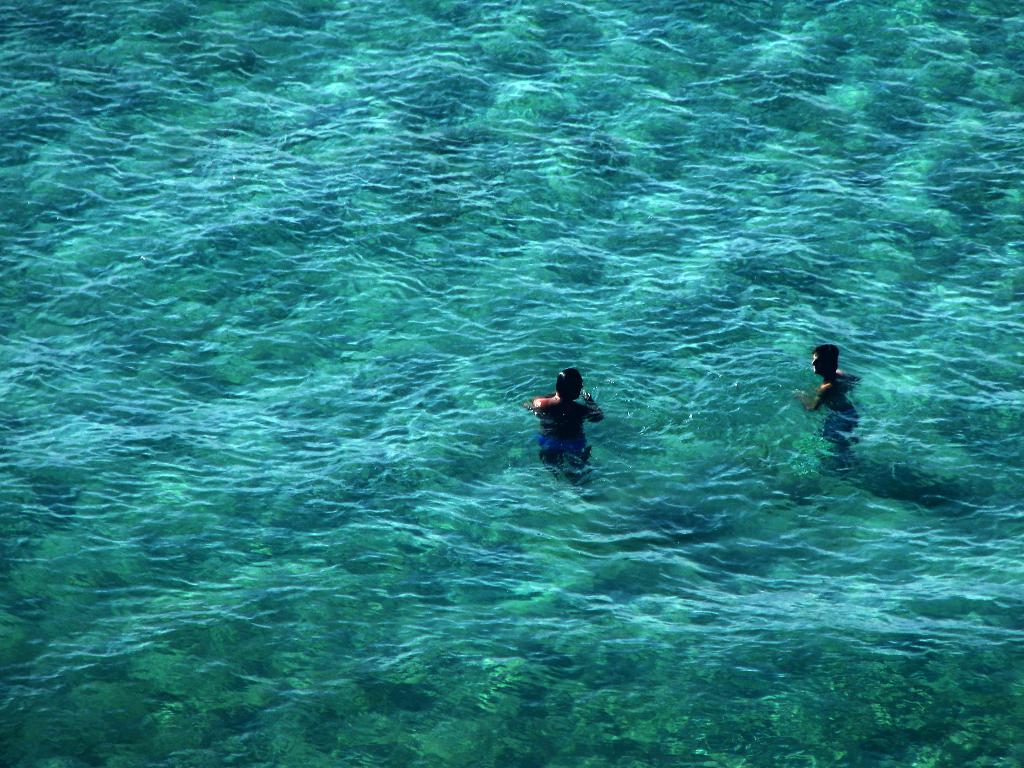Person: (531, 368, 604, 485), (796, 346, 860, 455)
